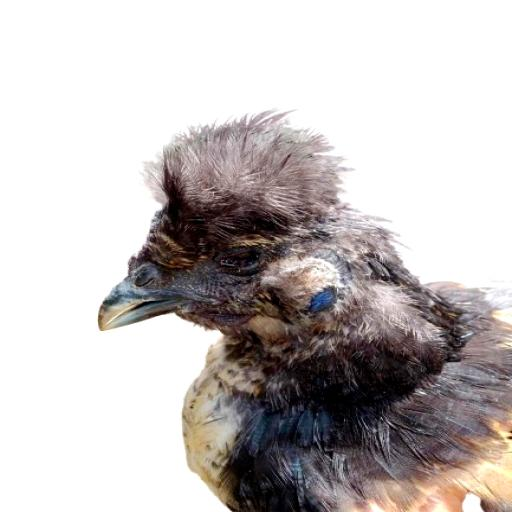disease: (186, 221, 364, 363)
